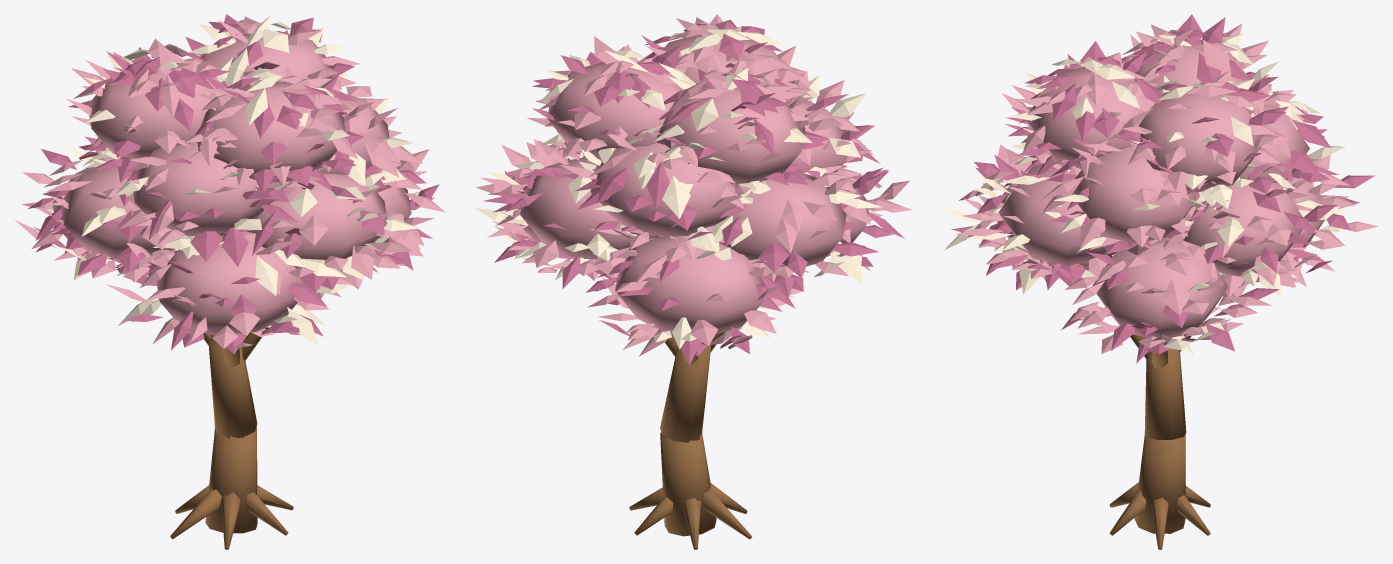
The model's file is tree_blossom.glb.
The picture shows the model from 3 angles, left to right: view 1: azimuth 30°, elevation 25°; view 2: azimuth 150°, elevation 25°; view 3: azimuth 270°, elevation 25°; orthographic projection. The views are drawn at different scales.
Parts seen in each view (by area): view 1: tree_blossom; view 2: tree_blossom; view 3: tree_blossom.
Part boxes in pixels (left/top/right/bottom): tree_blossom: left=15, top=14, right=445, bottom=549; tree_blossom: left=475, top=14, right=912, bottom=549; tree_blossom: left=943, top=14, right=1378, bottom=549.
Size of the model in its own units: 5.1 by 6.24 by 5.24.
